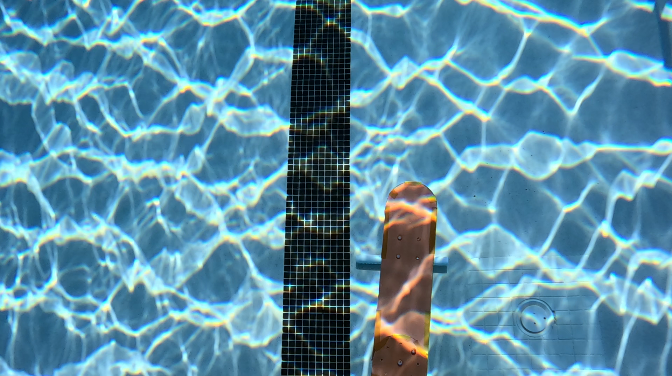pathmarker: (370, 182, 435, 373)
